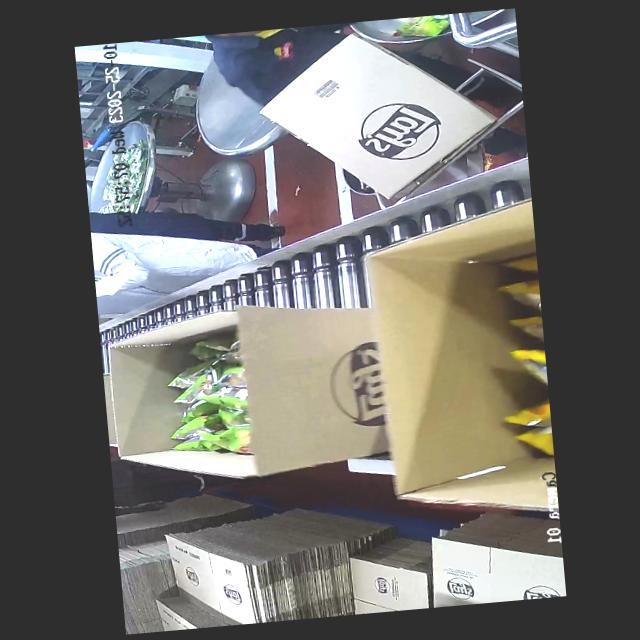salted: (448, 256, 554, 463)
yogurt: (152, 327, 257, 468)
